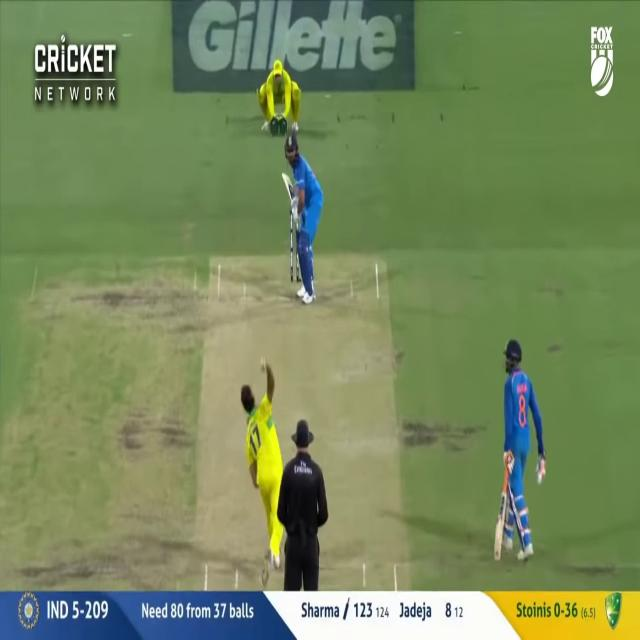stump: (290, 203, 302, 275)
